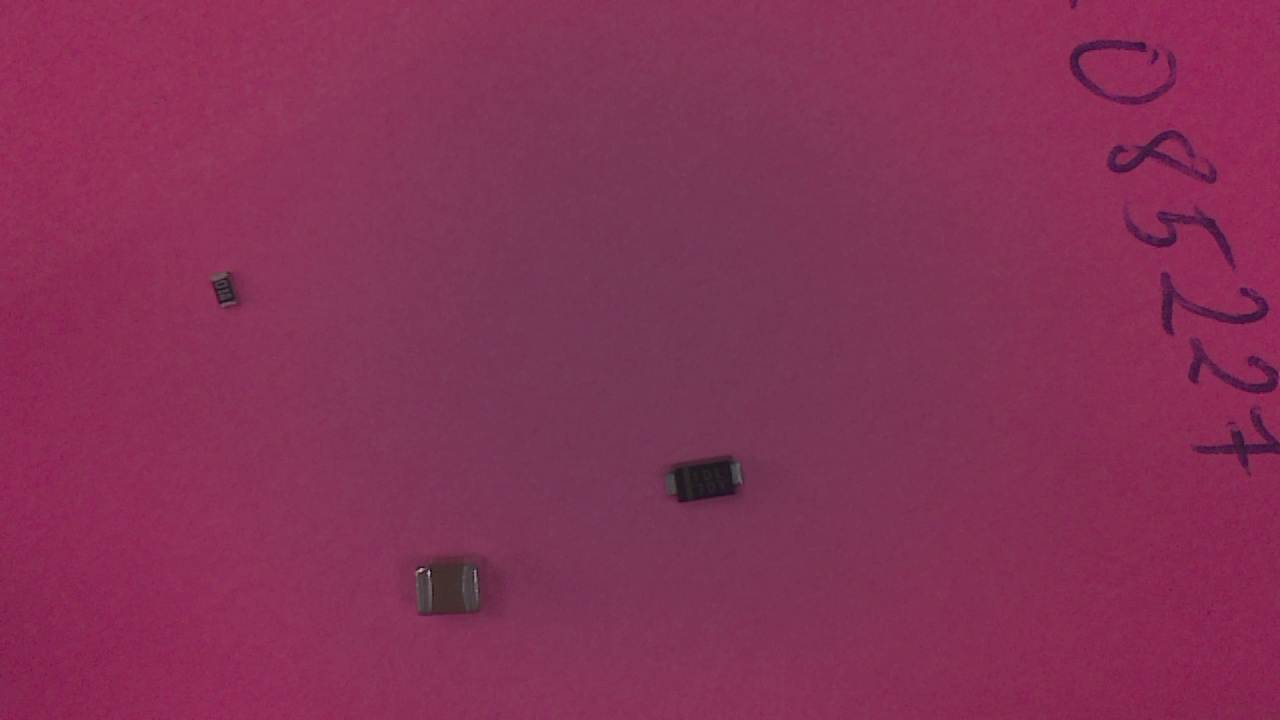Condensator: (416, 560, 492, 624)
Diode: (663, 459, 754, 513)
Resistor: (208, 278, 245, 315)
